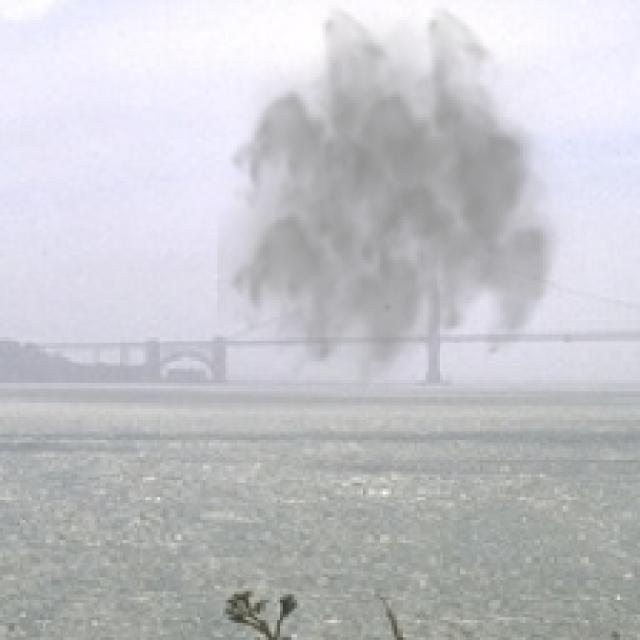smoke: (217, 3, 589, 394)
